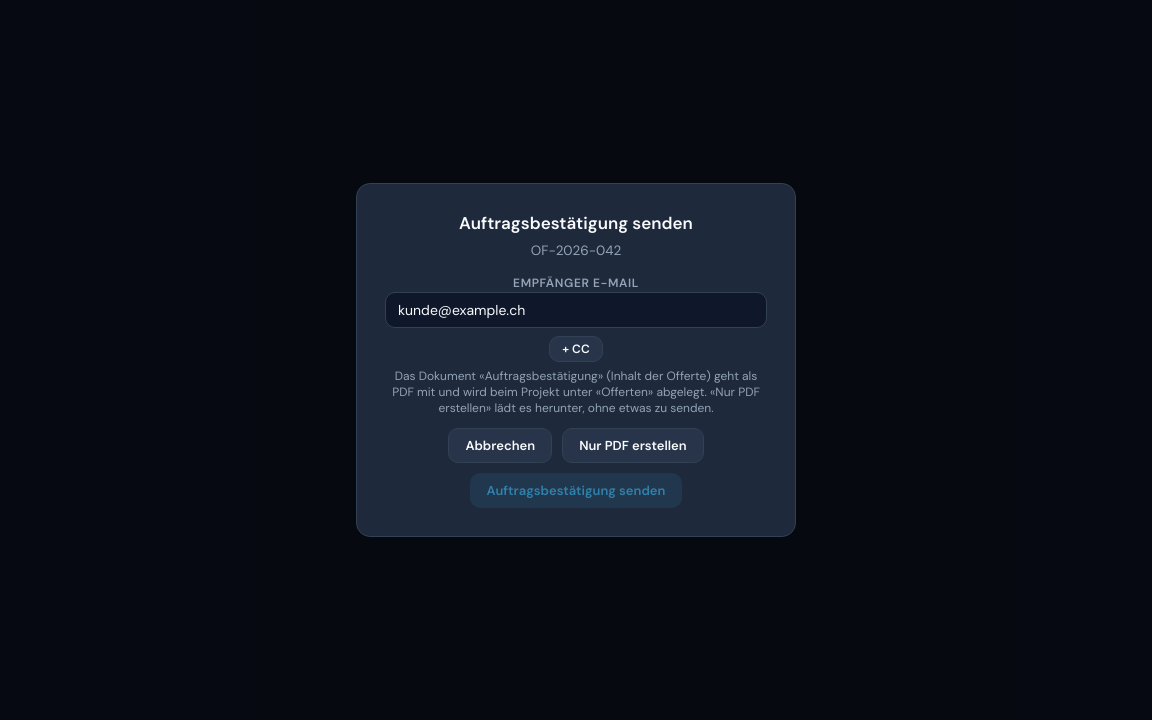
Test: SendOrderConfirmationDialog › zeigt einen Fehler beim PDF-Erstellen an und bleibt offen
The width and height of the screenshot is (1152, 720).
Click the button "Nur PDF erstellen" at x=633, y=446, box [562,428,704,463]
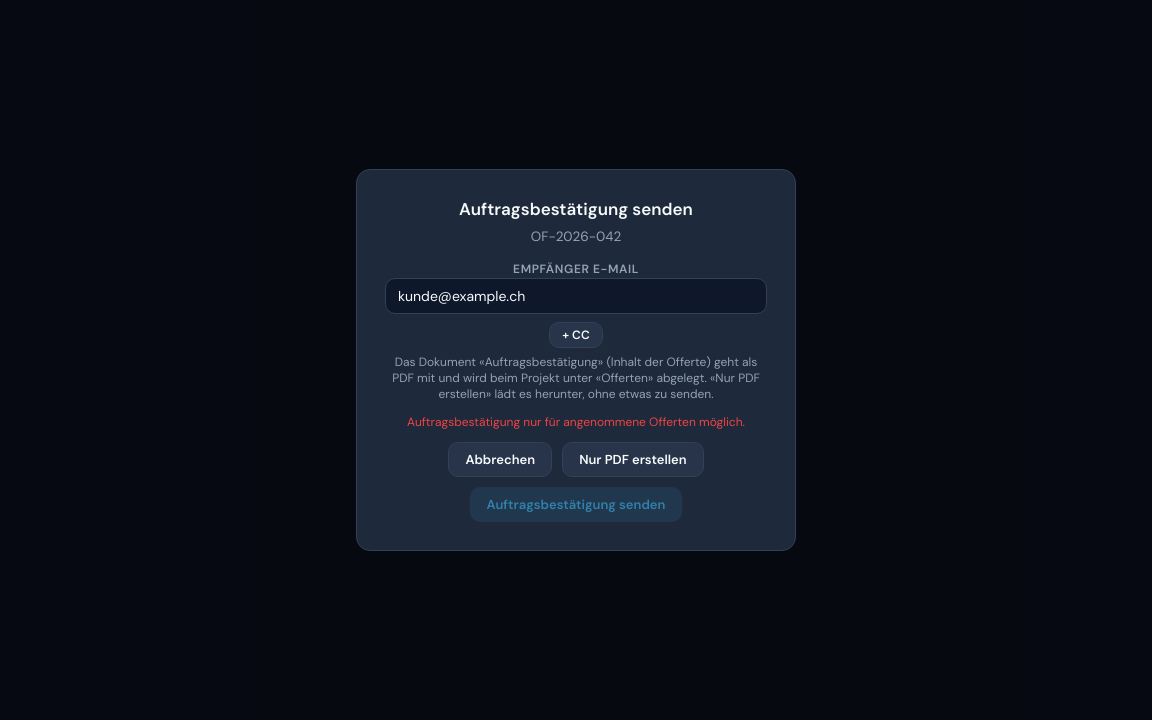
Expected: the text "Auftragsbestätigung nur für angenommene Offerten möglich." is shown, [385,414,767,430]
